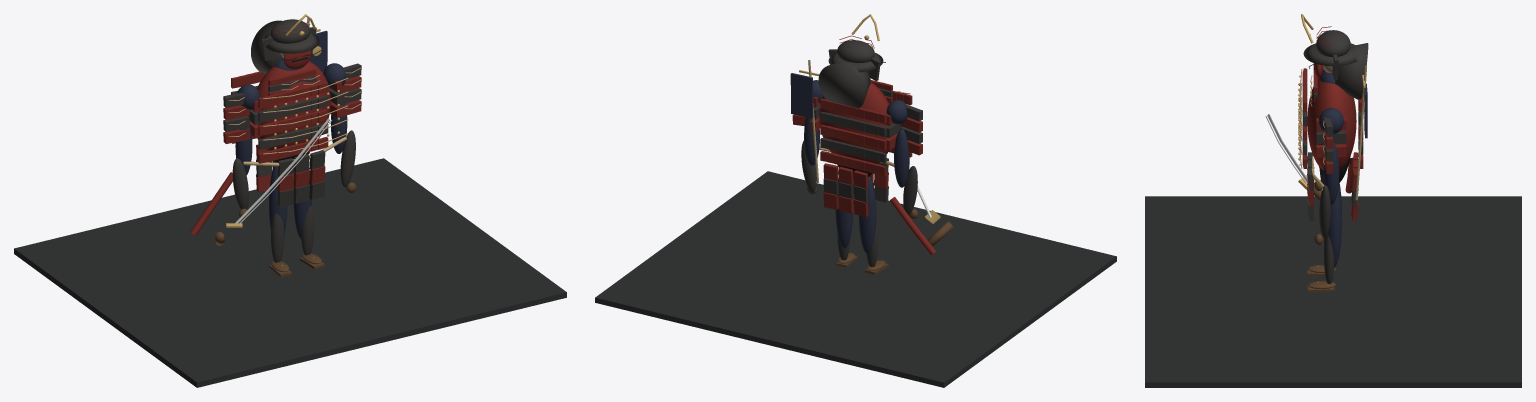
Rendered from actor-takeda-06.glb.
The picture shows the model from 3 angles, left to right: view 1: azimuth 30°, elevation 25°; view 2: azimuth 150°, elevation 25°; view 3: azimuth 270°, elevation 25°; orthographic projection. The views are drawn at different scales.
Parts seen in each view (by area): view 1: matte charcoal inspection plinth, rounded do cuirass silhouette, rear shikoro neck guard flare, segmented kabuto helmet bowl, right kote forearm guard, left kote forearm guard, wide kabuto brim, left shin greave, left hakama trouser leg, lacquered saya scabbard at left hip, right shin greave, right armored upper arm; view 2: matte charcoal inspection plinth, rear shikoro neck guard flare, rounded do cuirass silhouette, cloth sashimono banner panel, left hakama trouser leg, left armored upper arm, segmented kabuto helmet bowl, right hakama trouser leg, left kote forearm guard, right armored upper arm, lacquered saya scabbard at left hip; view 3: matte charcoal inspection plinth, rounded do cuirass silhouette, rear shikoro neck guard flare, segmented kabuto helmet bowl, right hakama trouser leg, wide kabuto brim, right armored upper arm, right kote forearm guard, right shin greave, right shoulder undercloth, bamboo sashimono back pole.
Part boxes in pixels (x1,y1,x2,y2): matte charcoal inspection plinth: (14, 158, 566, 387); rounded do cuirass silhouette: (257, 61, 330, 150); rear shikoro neck guard flare: (251, 20, 282, 74); segmented kabuto helmet bowl: (270, 19, 310, 43); right kote forearm guard: (340, 130, 355, 187); left kote forearm guard: (232, 158, 248, 209); wide kabuto brim: (261, 33, 319, 53); left shin greave: (271, 213, 284, 262); left hakama trouser leg: (269, 166, 287, 234); lacquered saya scabbard at left hip: (190, 172, 232, 235); right shin greave: (301, 205, 314, 255); right armored upper arm: (330, 104, 347, 153); matte charcoal inspection plinth: (595, 171, 1116, 387); rear shikoro neck guard flare: (818, 61, 870, 108); rounded do cuirass silhouette: (819, 82, 888, 163); cloth sashimono banner panel: (790, 73, 813, 118); left hakama trouser leg: (859, 176, 876, 253); left armored upper arm: (894, 129, 909, 187); segmented kabuto helmet bowl: (837, 40, 874, 62); right hakama trouser leg: (835, 180, 852, 248); left kote forearm guard: (903, 166, 917, 215); right armored upper arm: (804, 117, 819, 165); lacquered saya scabbard at left hip: (889, 197, 935, 254); matte charcoal inspection plinth: (1145, 196, 1521, 387); rounded do cuirass silhouette: (1307, 78, 1356, 170); rear shikoro neck guard flare: (1335, 43, 1368, 99); segmented kabuto helmet bowl: (1316, 30, 1350, 56); right hakama trouser leg: (1328, 189, 1341, 267); wide kabuto brim: (1303, 43, 1356, 66); right armored upper arm: (1323, 142, 1339, 204); right kote forearm guard: (1319, 185, 1330, 238); right shin greave: (1324, 235, 1334, 283); right shoulder undercloth: (1319, 108, 1343, 134); bamboo sashimono back pole: (1355, 66, 1366, 200).
Size of the model in its own units: 4.2 by 2.96 by 3.6.
